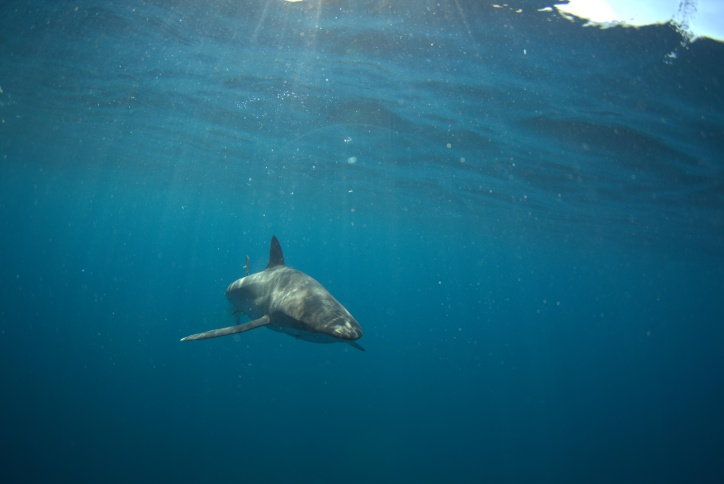Sedoso: (154, 223, 388, 374)
